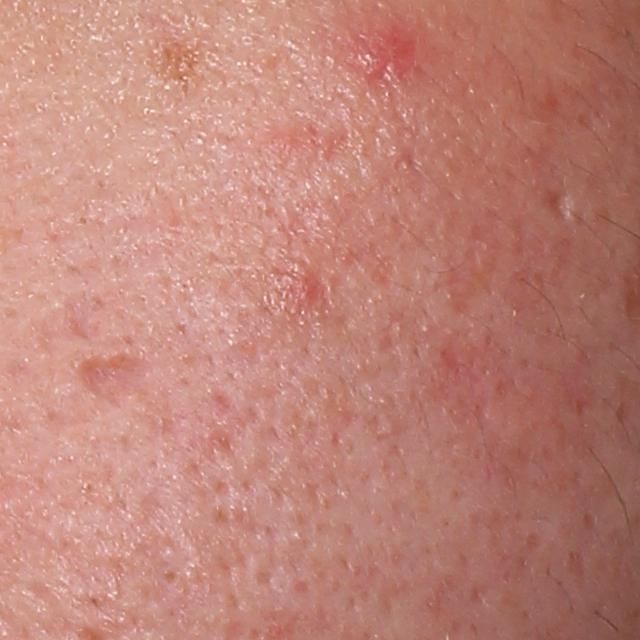atrophic_scar: (76, 346, 150, 408), (540, 187, 570, 221)
papule: (353, 17, 420, 84)
